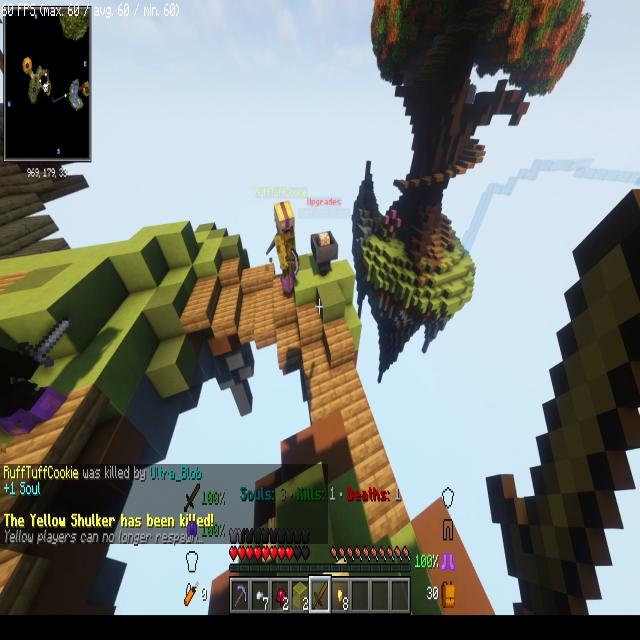Player: (0, 310, 73, 450), (260, 191, 307, 304)
